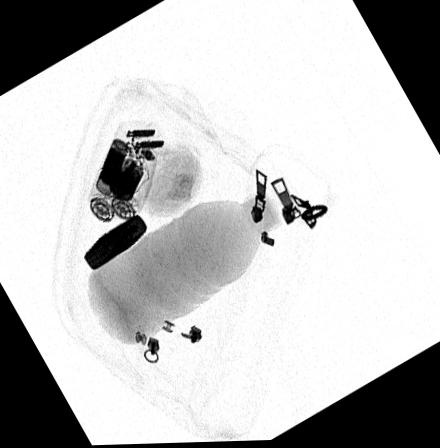Lighter: (83, 212, 148, 270)
